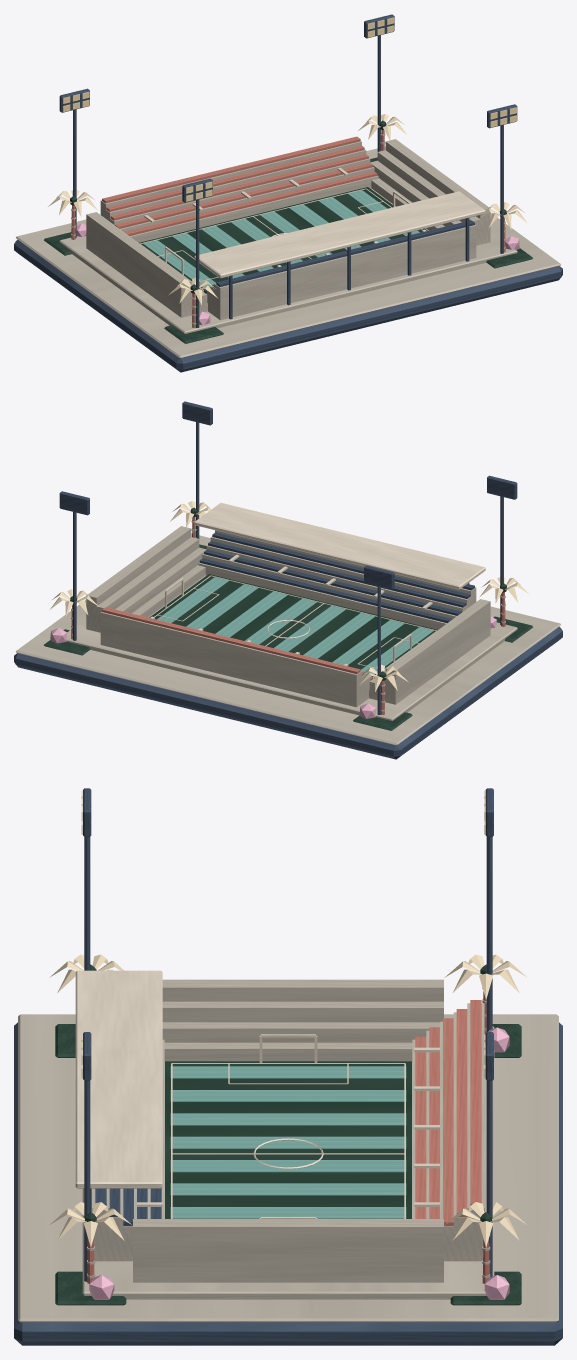
File: petrosport-stadium-diorama.glb
3 renders of one model, top to bottom at view 1: azimuth 30°, elevation 25°; view 2: azimuth 150°, elevation 25°; view 3: azimuth 270°, elevation 25°, orthographic. The views are drawn at different scales.
Visible parts, largest first — view 1: petrosport-stadium; view 2: petrosport-stadium; view 3: petrosport-stadium.
Part boxes in pixels (<box>): petrosport-stadium: <box>14,14,562,372</box>; petrosport-stadium: <box>14,401,562,759</box>; petrosport-stadium: <box>14,788,562,1345</box>.
Size of the model in its own units: 16 by 6.59 by 12.
Materials: 1 (1 with a texture image).
